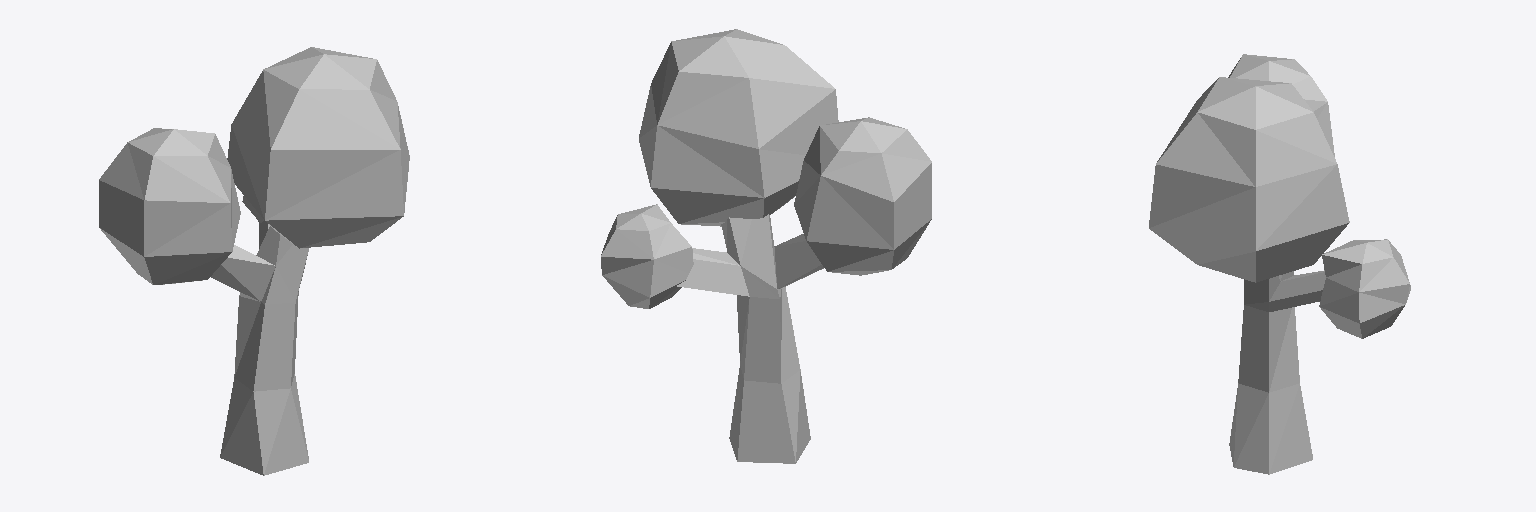
Rendered from tree.obj.
3 renders of one model, left to right at view 1: azimuth 30°, elevation 25°; view 2: azimuth 150°, elevation 25°; view 3: azimuth 270°, elevation 25°, orthographic.
Parts seen in each view (by area): view 1: pSphere4; view 2: pSphere4; view 3: pSphere4.
Part boxes in pixels (x1,y1,x2,y2): pSphere4: (99,47,409,475); pSphere4: (601,29,931,463); pSphere4: (1149,54,1410,474).
Size of the model in its own units: 10.06 by 13.36 by 8.08.